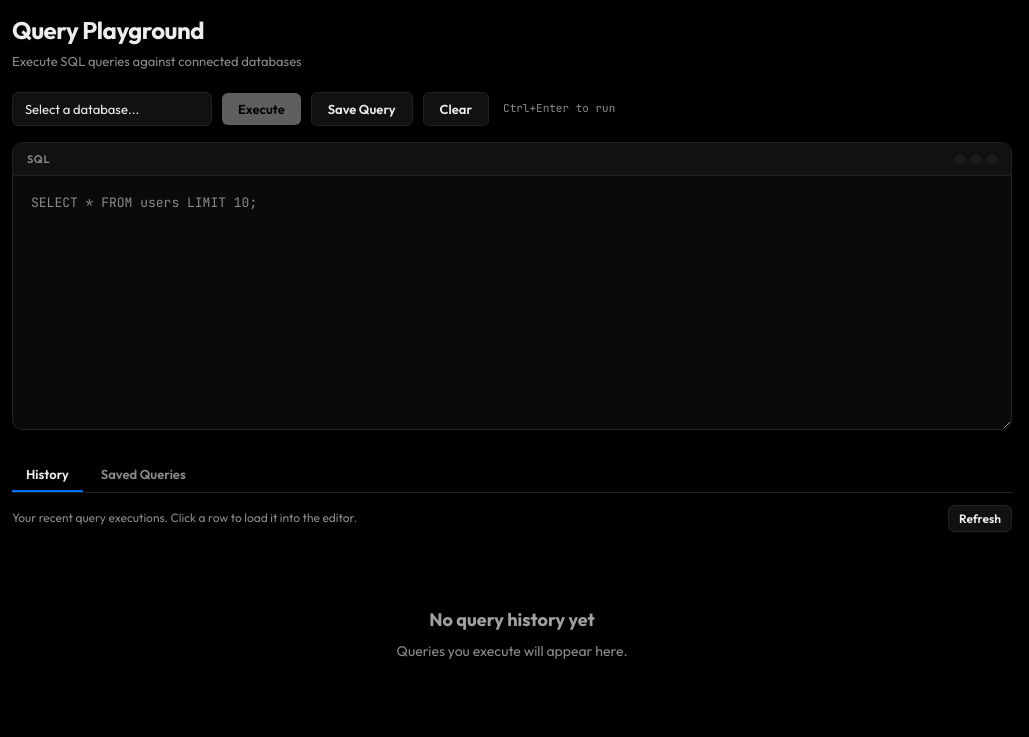
Test case: QueryPlayground › shows error message on execution failure
This screenshot has width=1029, height=737.
Select "test-db" in the dropdown at [112, 108], box [12,92,212,126]
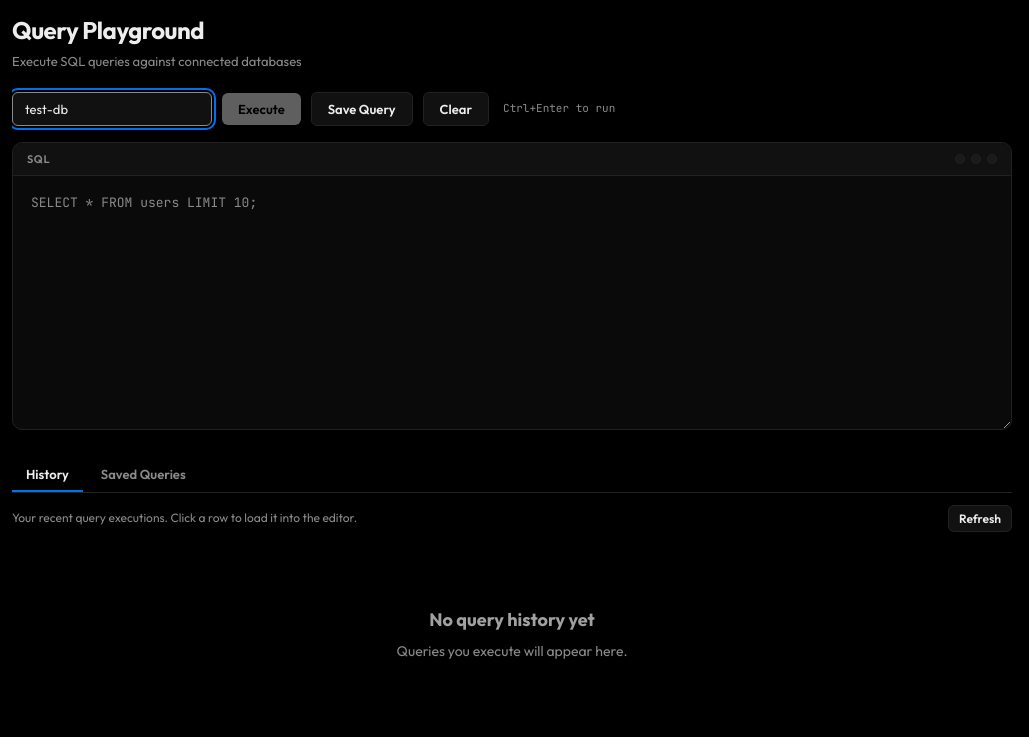
Type "SELECT * FROM users" into the text box named "SQL editor" at [512, 302], box [13,176,1011,429]
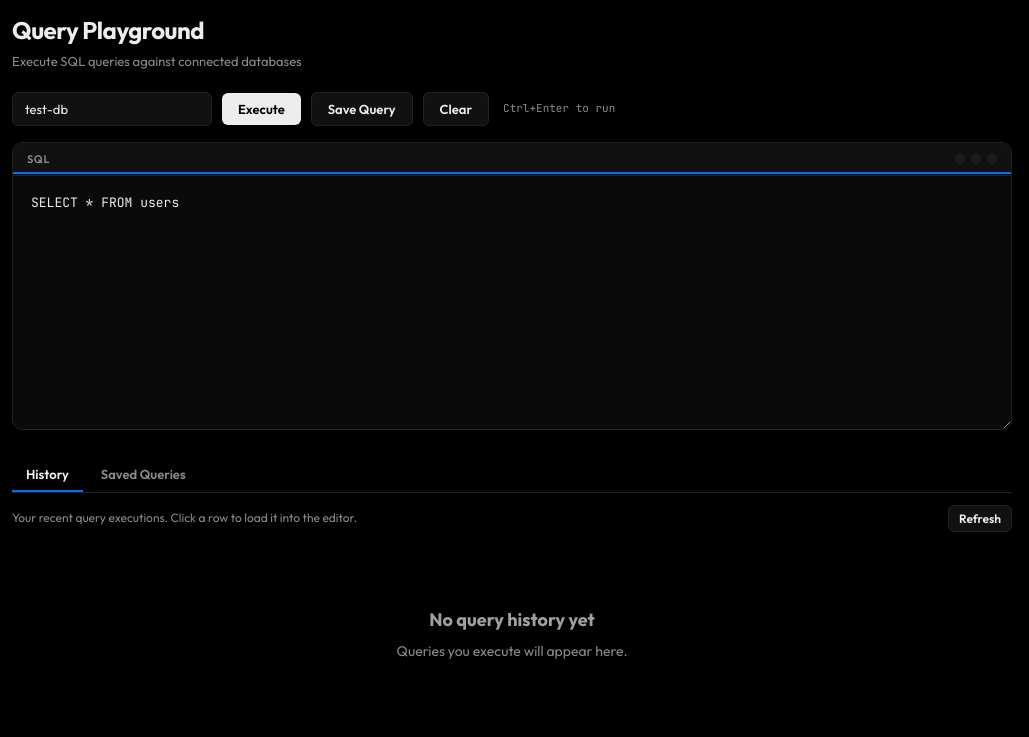
Click the button "Execute" at [261, 108], box [222,92,301,124]
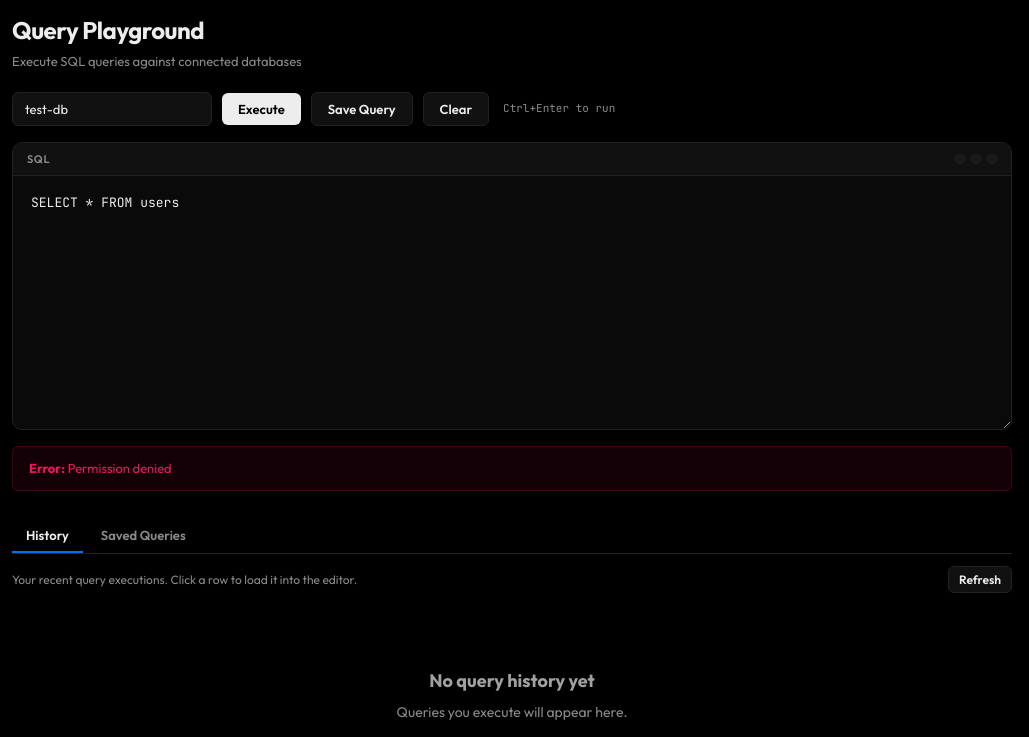
Check: the message shows "Permission denied", box [68,460,172,476]
